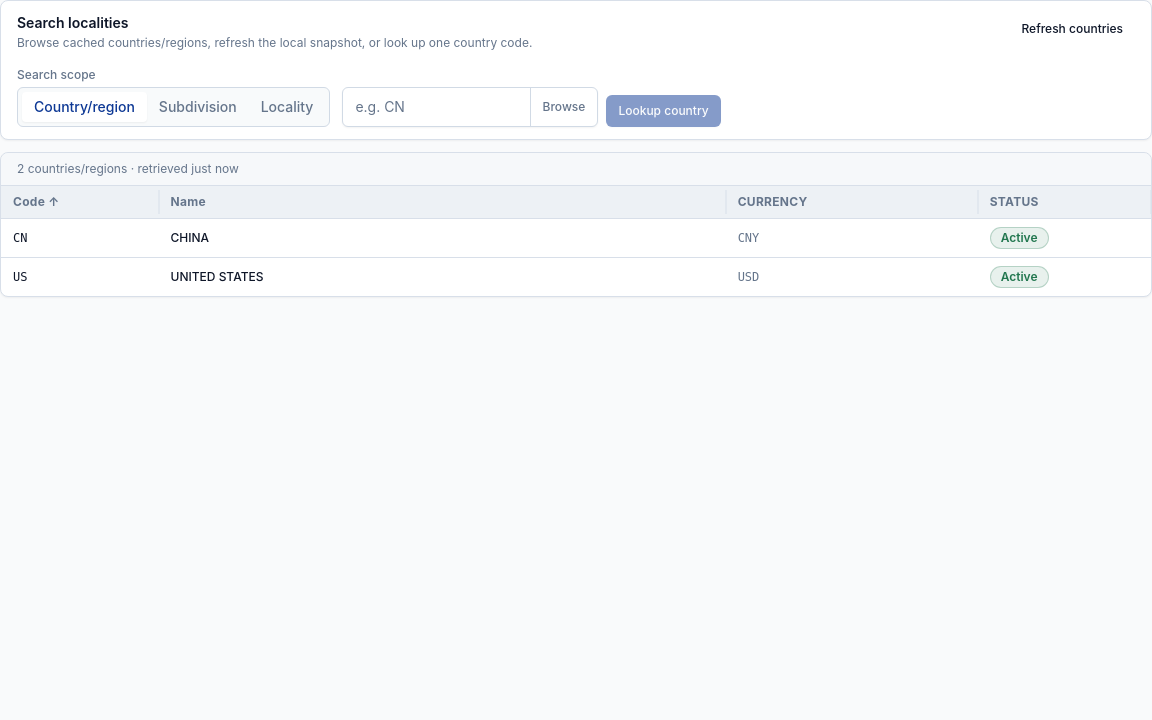
Test: LocalitiesView retrieval progress › shows an indeterminate bar naming the operation while a locality search runs
The width and height of the screenshot is (1152, 720).
Click the tab with aria-label "Locations" at [287, 107], box [249, 92, 325, 122]
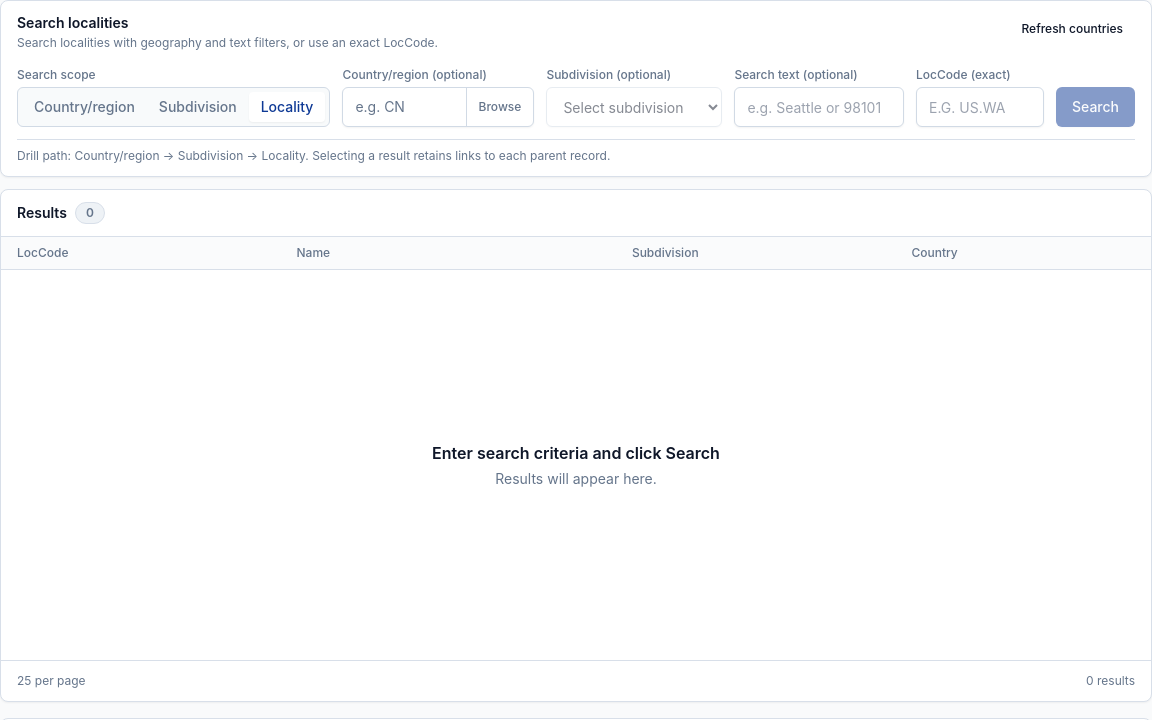
Type "Shanghai" into the field named "Search text" at [819, 107], box [734, 87, 904, 127]
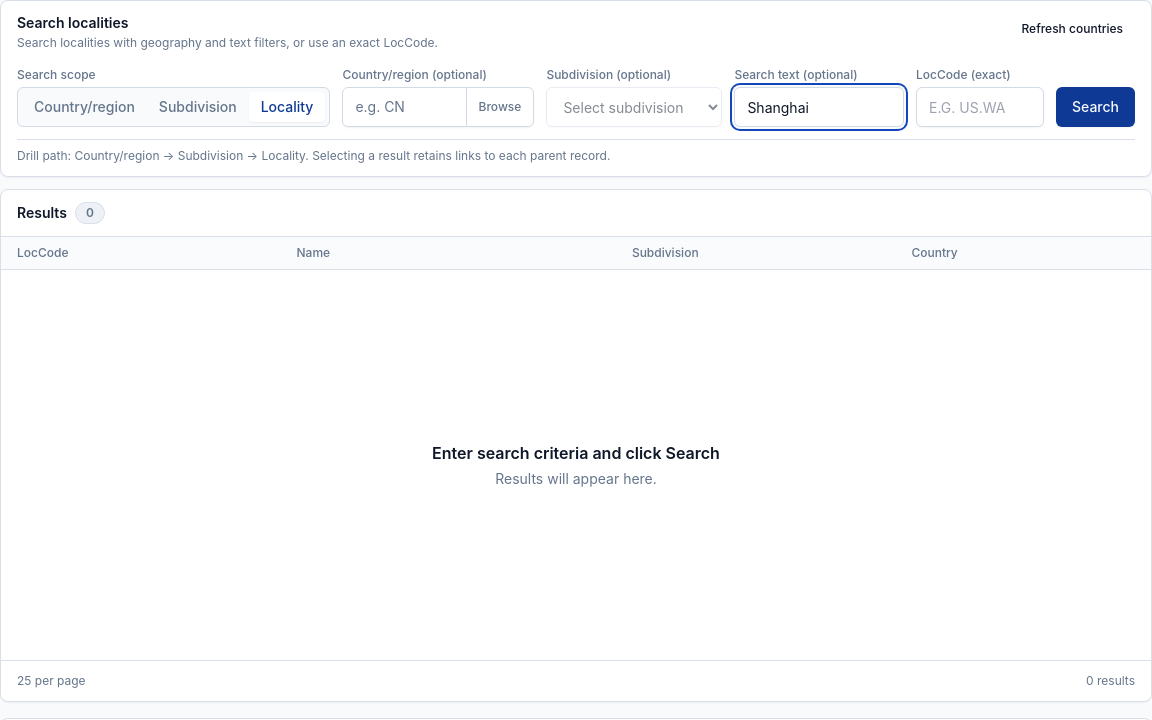
Click the button with aria-label "search localities" at [1096, 107], box [1056, 87, 1135, 127]
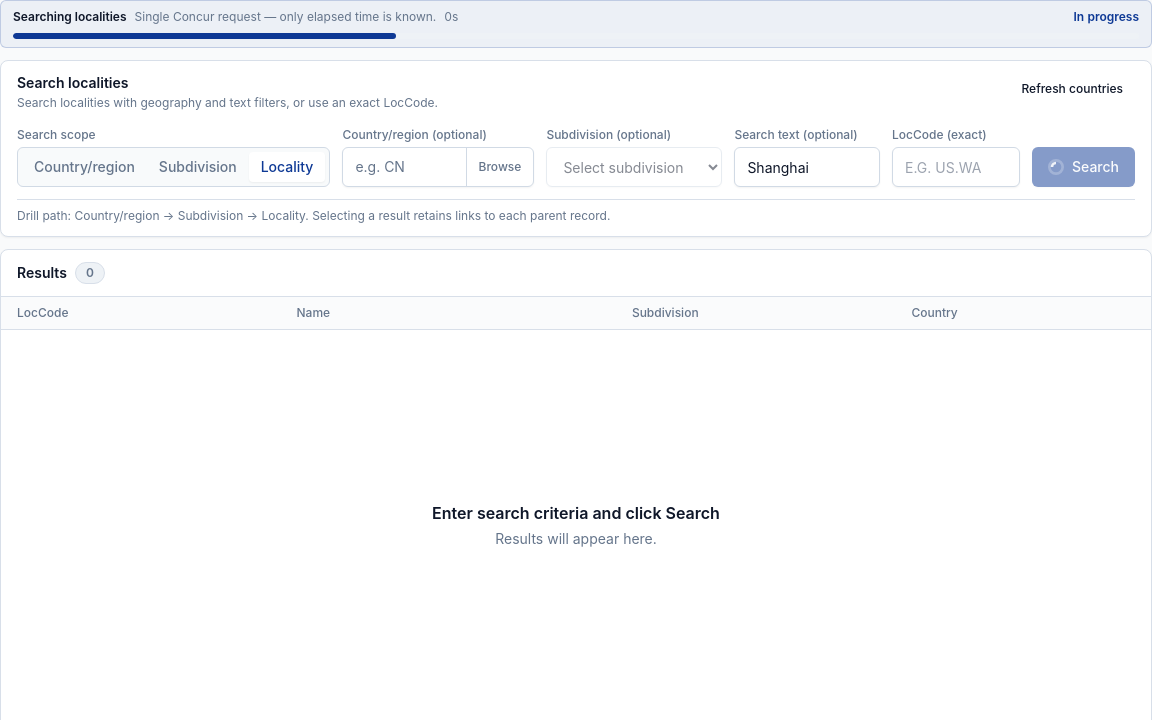
Expected: the text "In progress" is shown, [1074, 9, 1139, 25]
